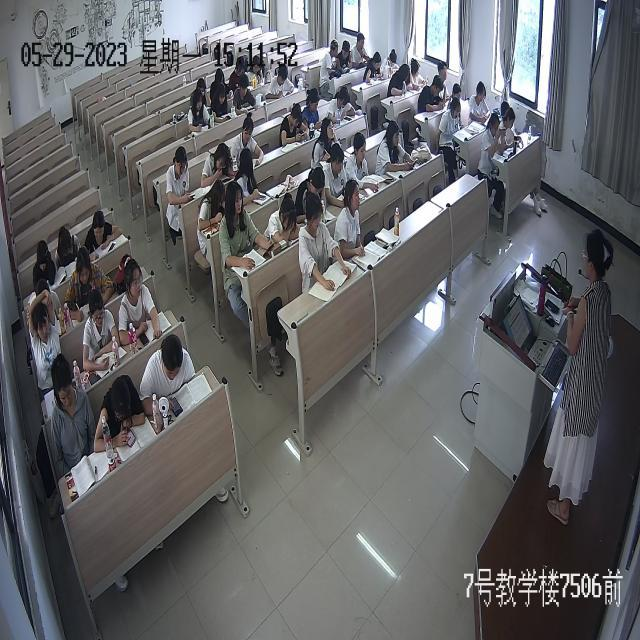distracted: (48, 358, 97, 467), (232, 148, 264, 202), (54, 226, 84, 270), (318, 39, 341, 79), (336, 40, 354, 73)
focused: (299, 192, 349, 286), (29, 304, 70, 392), (118, 259, 161, 341), (81, 291, 125, 371), (67, 247, 114, 319), (333, 178, 365, 260), (345, 134, 378, 194), (28, 277, 66, 327), (324, 144, 354, 207), (84, 209, 124, 256), (232, 114, 266, 168), (296, 166, 328, 223), (196, 182, 229, 232), (30, 240, 59, 292), (313, 118, 342, 168), (417, 76, 451, 114), (263, 63, 296, 99), (497, 107, 520, 151), (234, 74, 258, 115), (210, 82, 233, 123), (468, 82, 490, 123), (431, 60, 453, 100), (351, 31, 374, 68), (439, 101, 462, 138), (361, 52, 386, 85), (388, 64, 412, 98), (247, 55, 270, 88), (230, 57, 252, 87), (446, 80, 464, 112), (380, 50, 400, 78)
sleep: (263, 196, 303, 245)
using_phone: (140, 333, 198, 422), (220, 183, 276, 269), (94, 376, 148, 454), (376, 121, 418, 176), (166, 146, 195, 205), (200, 144, 237, 186), (280, 104, 312, 145), (324, 86, 358, 124), (300, 87, 326, 133), (188, 90, 215, 133), (480, 116, 508, 157), (208, 67, 236, 102), (409, 59, 430, 91)
